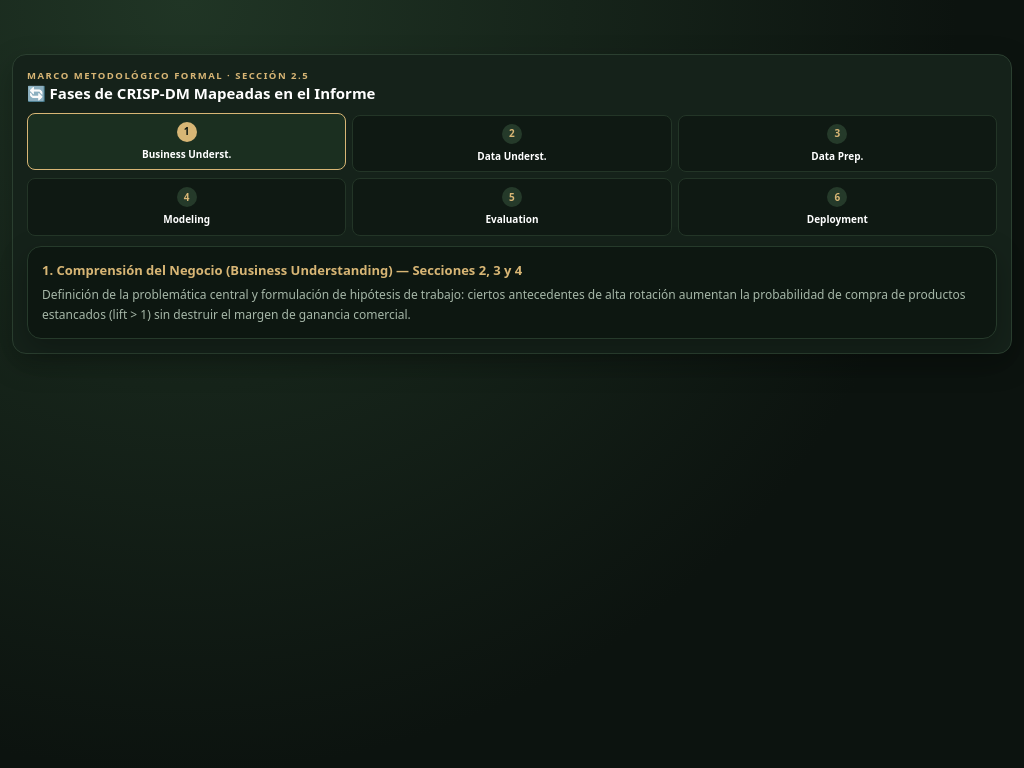
CRISP-DM › cambia el detalle al elegir una fase
This screenshot has width=1024, height=768.
expect the heading with id "crispTitle" shows "Comprensión del Negocio": met, box [42, 260, 522, 278]
Click the text "Modeling" at [187, 219], box [163, 212, 210, 226]
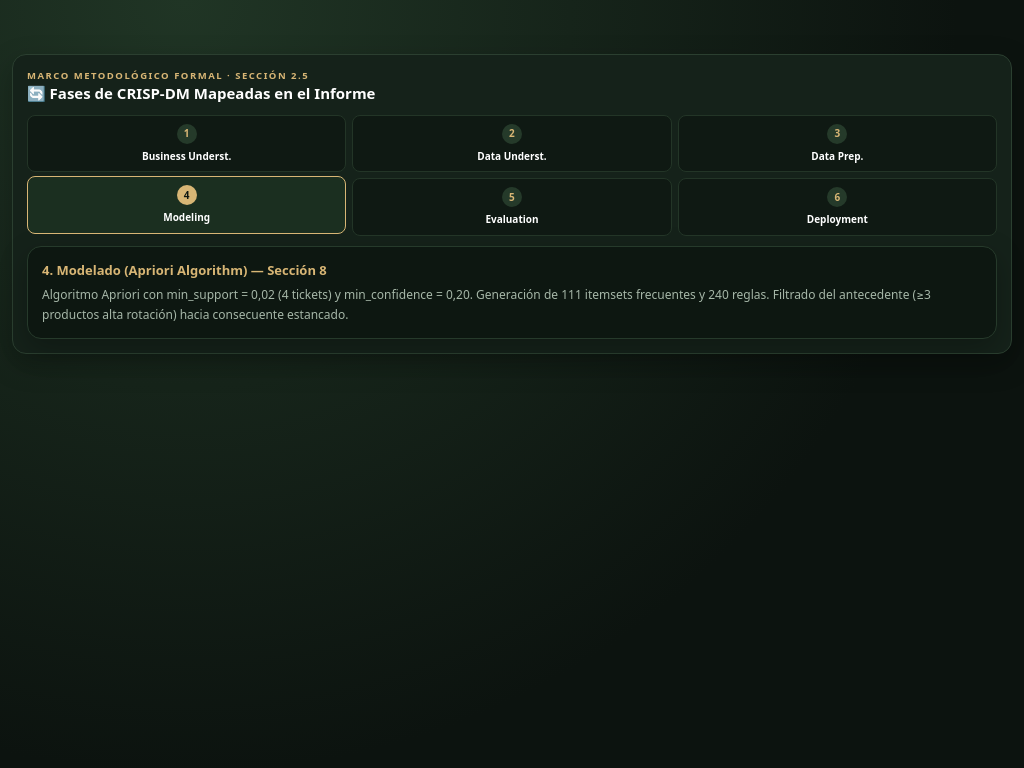
expect the heading with id "crispTitle" shows "Modelado (Apriori Algorithm)": met, box [42, 260, 327, 278]
